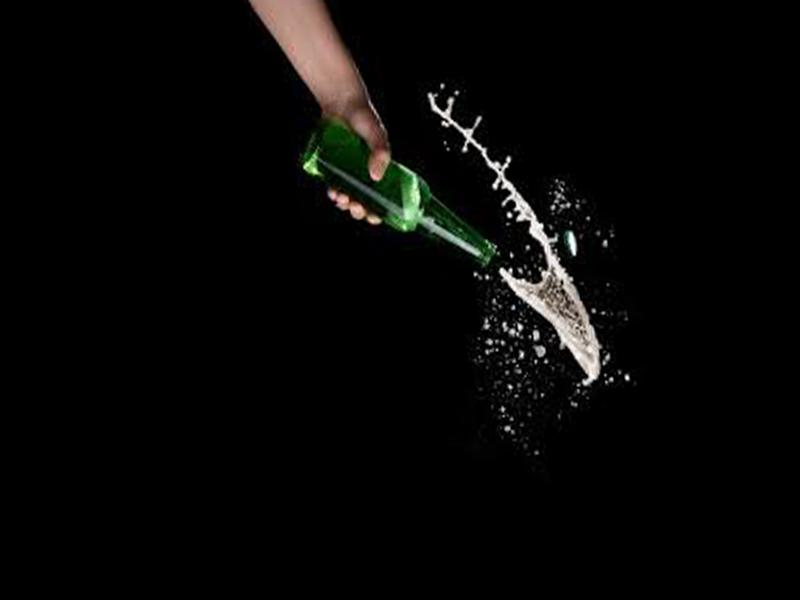Beer: (292, 98, 496, 288)
